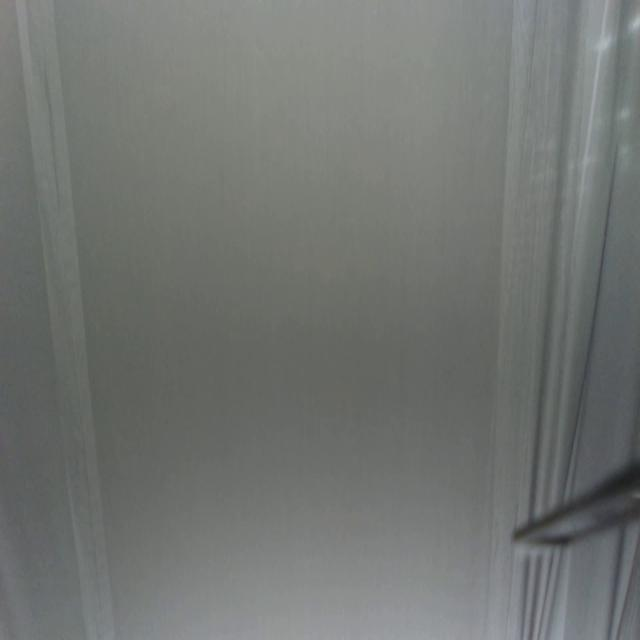crease: (492, 0, 640, 633), (16, 1, 115, 640)
